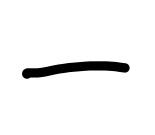minus: (22, 62, 130, 79)
